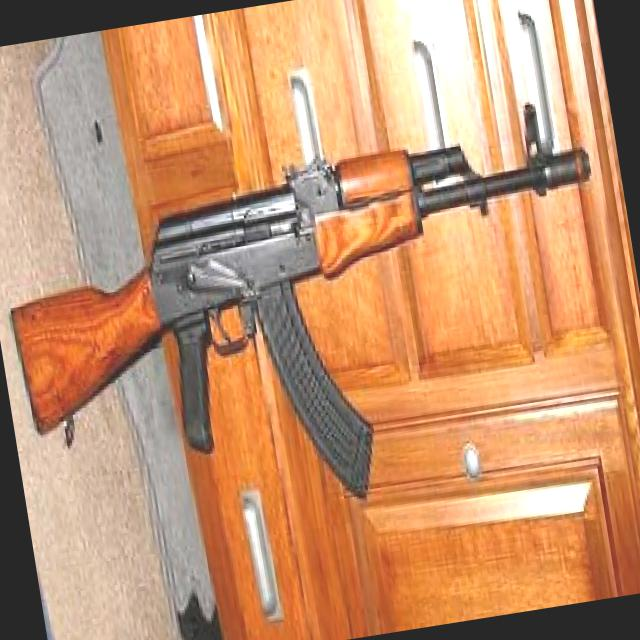long weapon: (0, 87, 615, 495)
